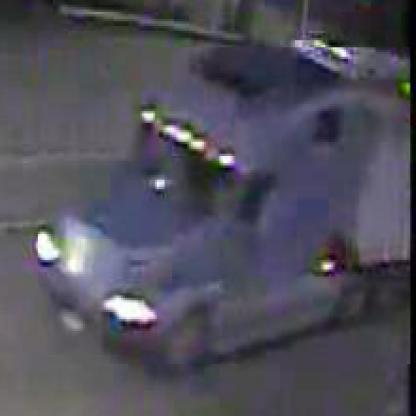container: (37, 49, 411, 368)
